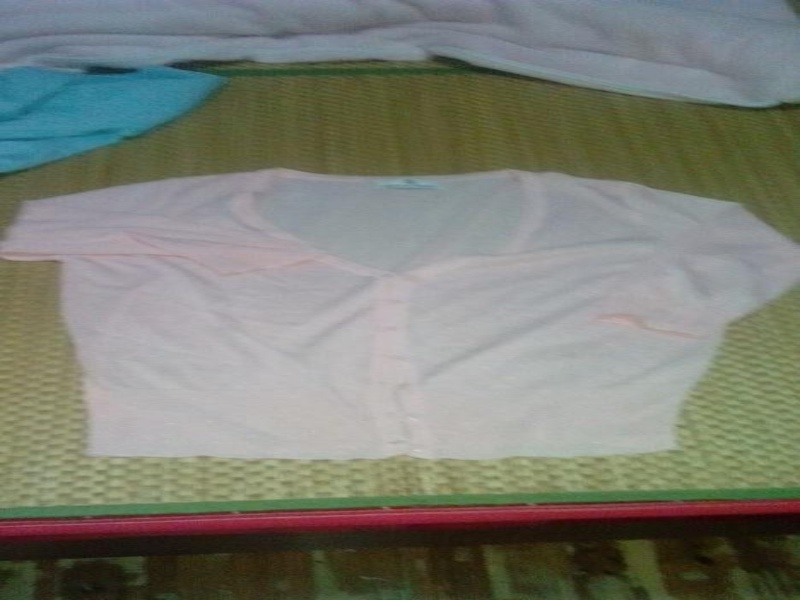long_sleeved_shirt: (0, 163, 797, 465)
